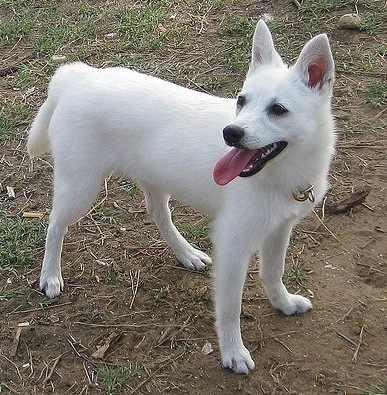dog: (28, 20, 337, 375)
